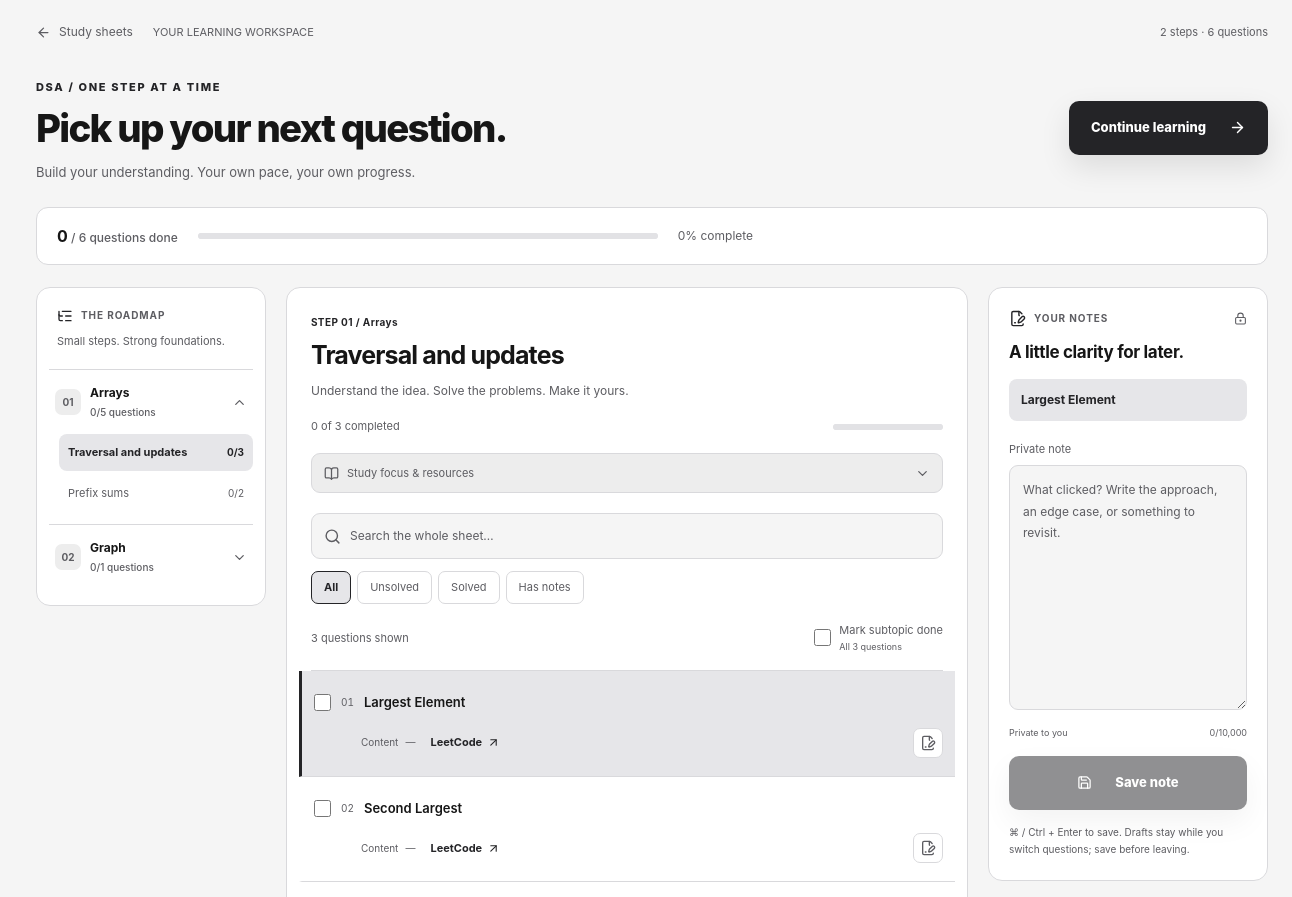
Test: Learning Workspace › preserves note drafts across questions and saves only the selected question's note
Expected: the checkbox named "Mark Largest Element complete" is enabled, [314,694,331,711]
Type "Remember the edge case." into the text box labelled "Private note" at (1128, 588), box [1009,465,1247,710]
(page scrolled)
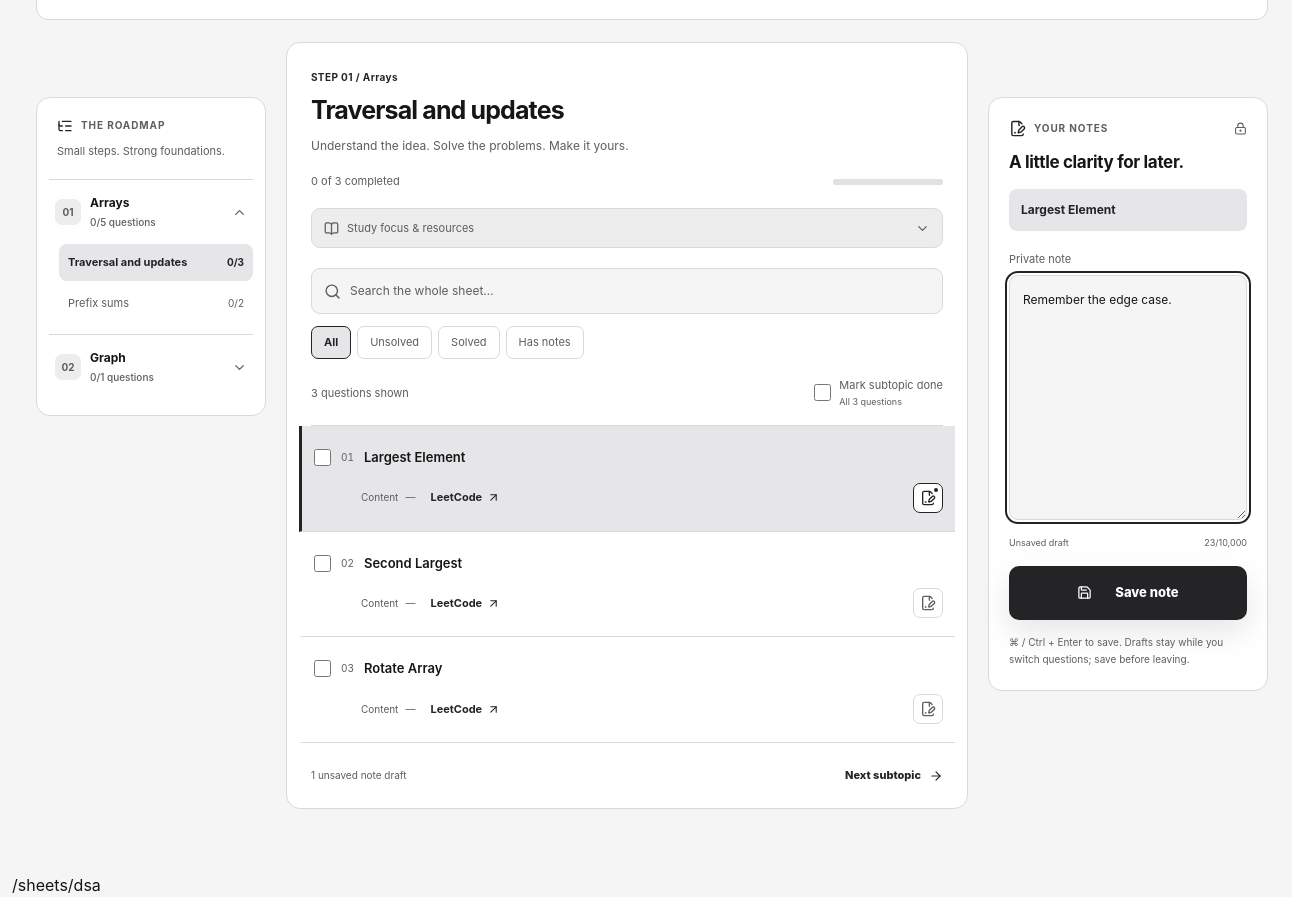
Click the button "Rotate Array" at (403, 668), box [364,656,943,682]
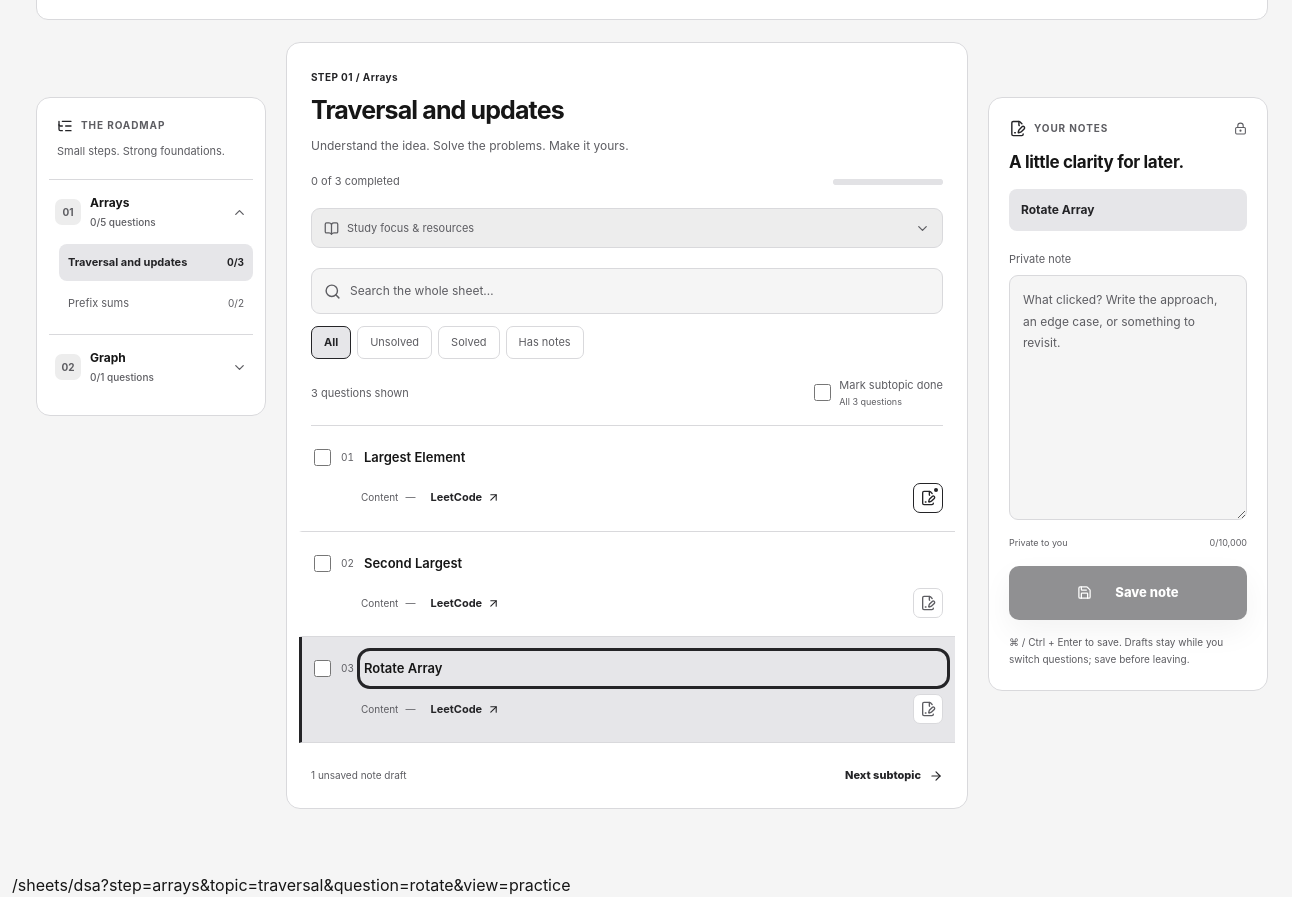
Now the text box labelled "Private note" is empty, box [1009,275,1247,520]
Click the button "Largest Element" at (415, 457), box [364,444,943,471]
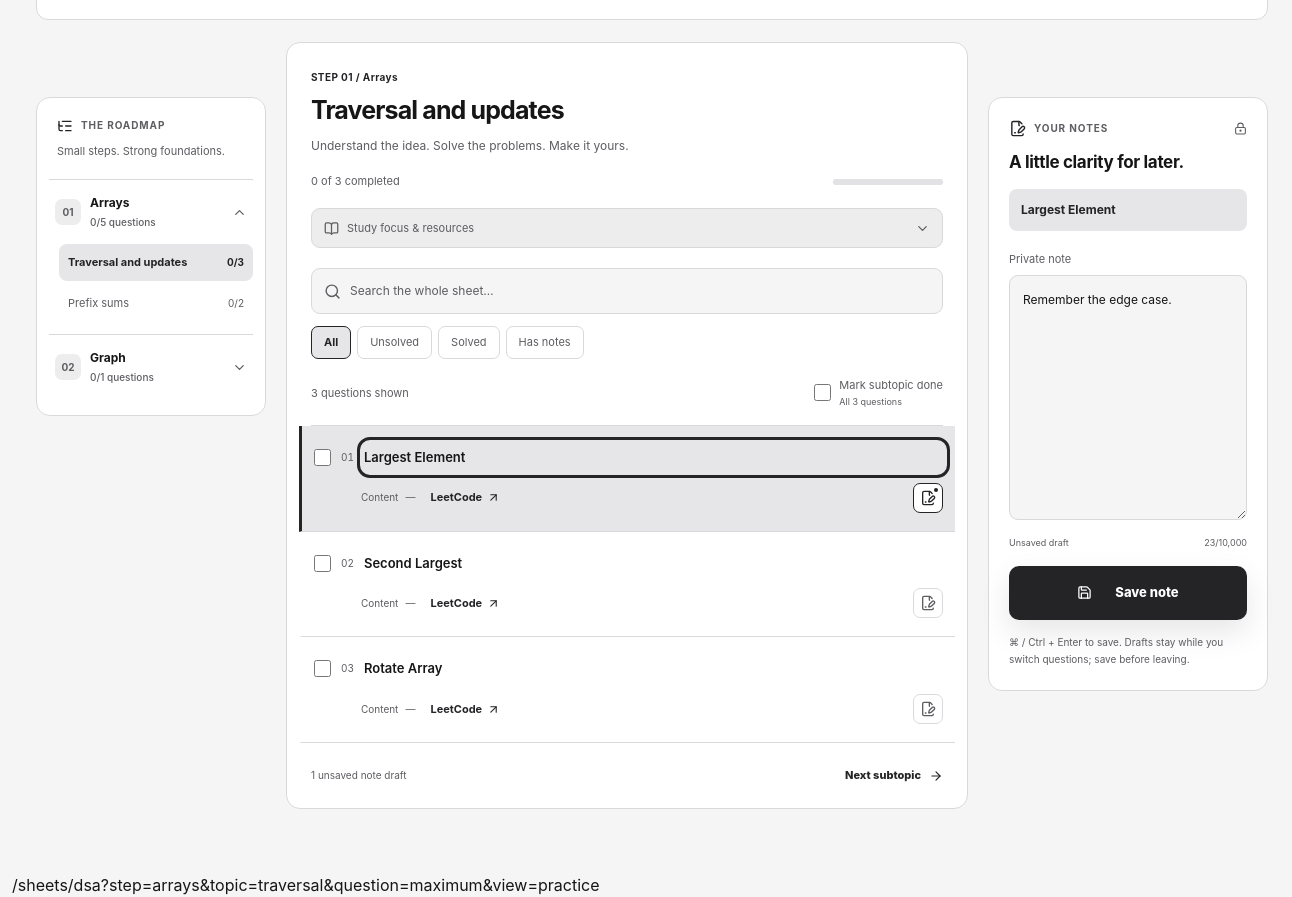
Now the text box labelled "Private note" holds "Remember the edge case.", box [1009,275,1247,520]
Click the button "Save note" at (1128, 593), box [1009,566,1247,620]
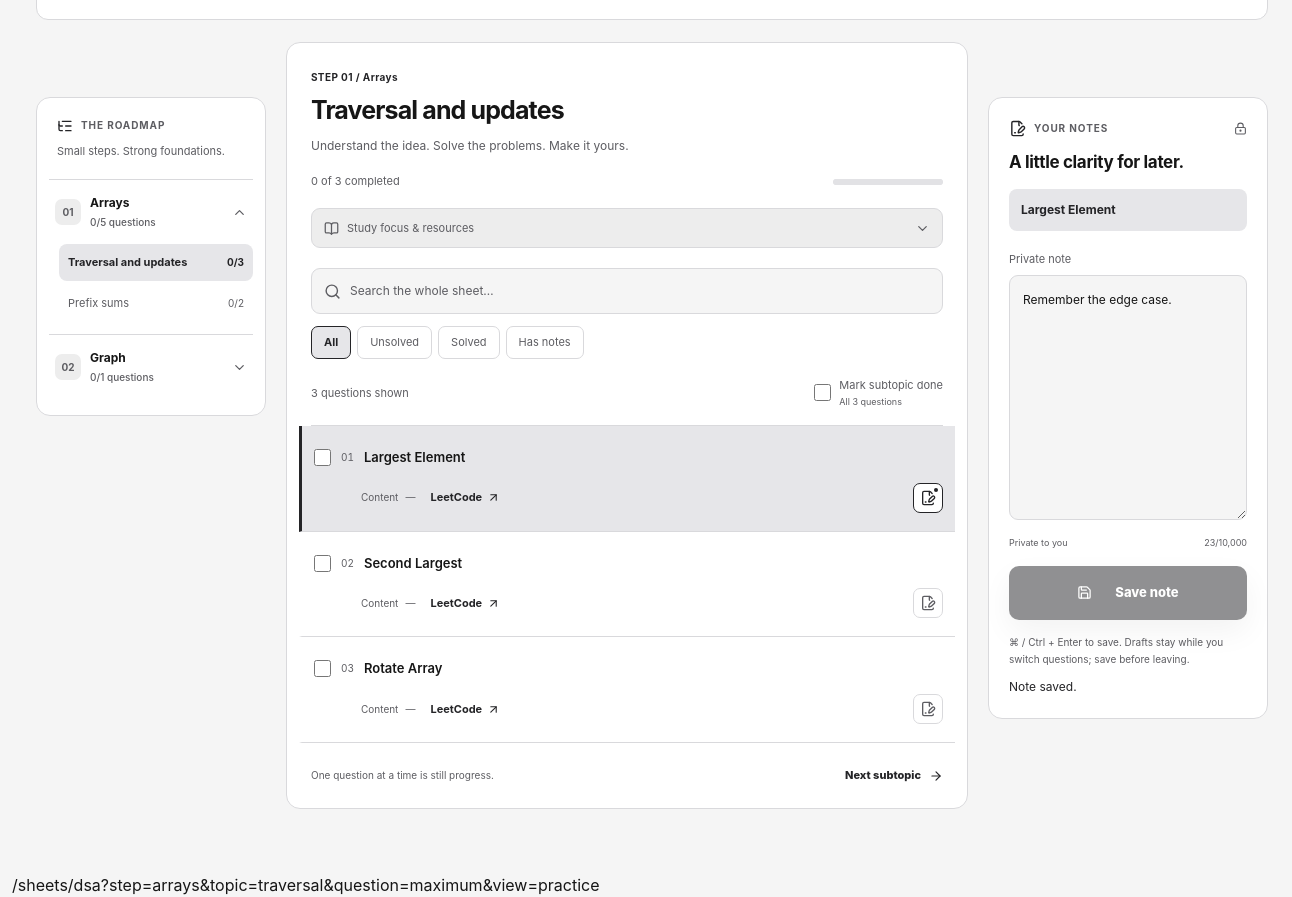
Now the text "Note saved." is shown, box [1009,679,1077,694]
